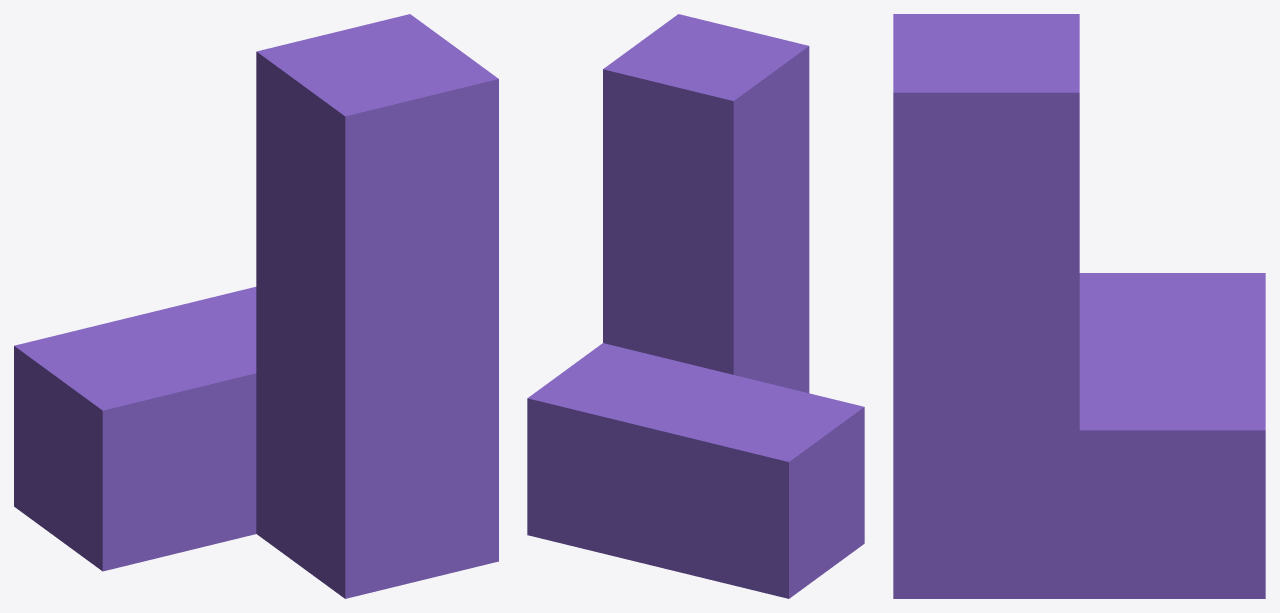
3 views of the same model, side by side, from view 1: azimuth 30°, elevation 25°; view 2: azimuth 150°, elevation 25°; view 3: azimuth 270°, elevation 25° (orthographic). The views are drawn at different scales.
Visible parts, largest first — view 1: cube (×5); view 2: cube (×5); view 3: cube (×5).
Boxes of the visible parts, x1,y1,x2,y2 form: cube (×5): (14,14,498,598); cube (×5): (527,14,864,598); cube (×5): (893,14,1265,598).
Size of the model in its own units: 2 by 2 by 3.
